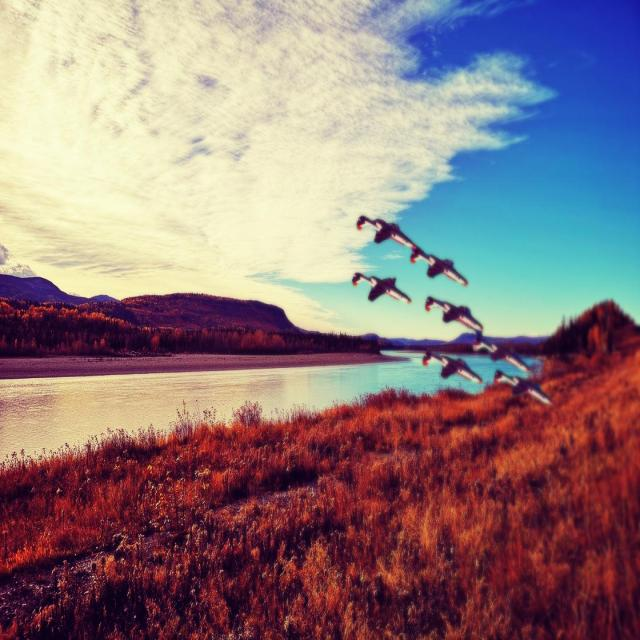airplane: (356, 214, 468, 286), (425, 296, 483, 334), (493, 370, 552, 406), (422, 350, 483, 384), (352, 272, 411, 304)
